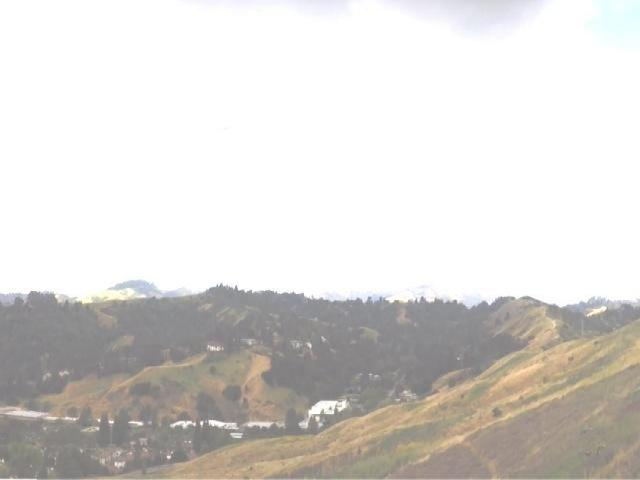iha: (208, 117, 244, 137)
